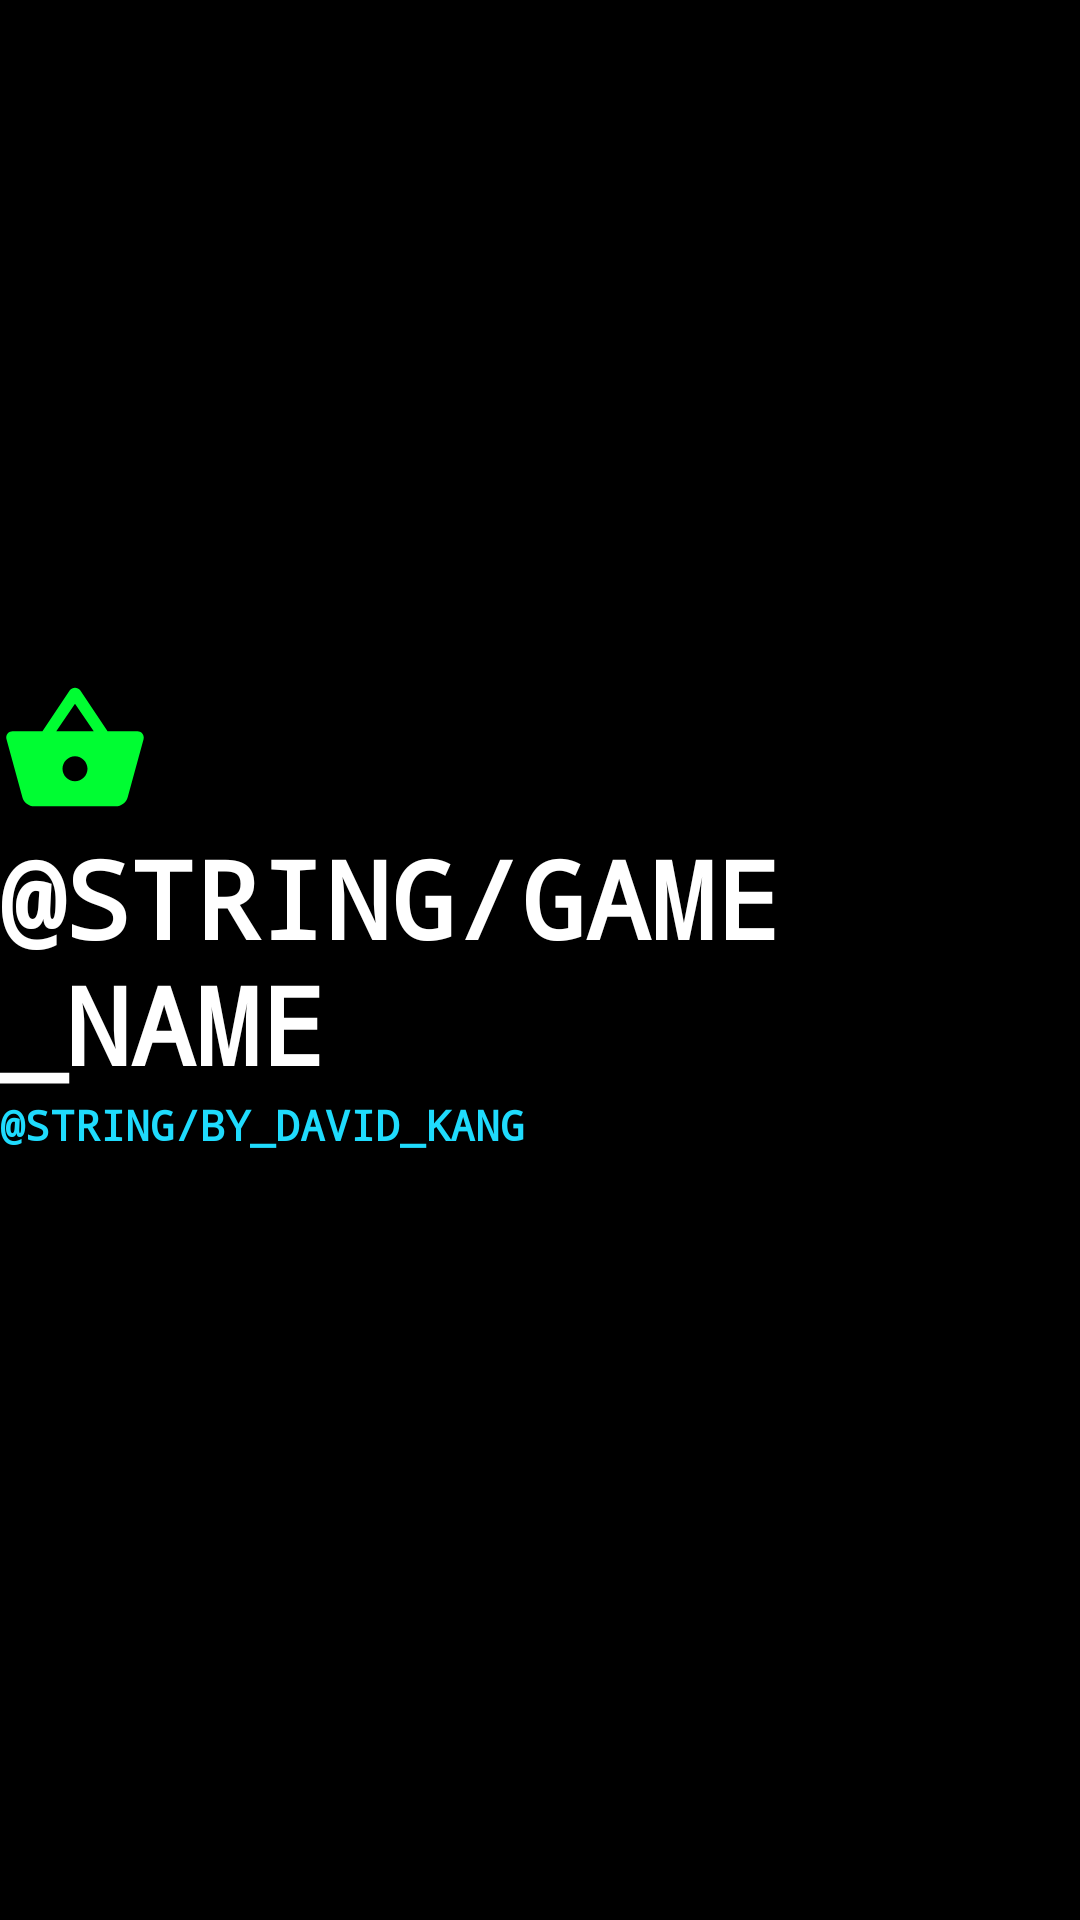

Named icons in this screenshot (1080x1920) and their bounding boxes, detection(x1, y1, x2, y2):
shopping basket: detection(6, 687, 144, 807)
